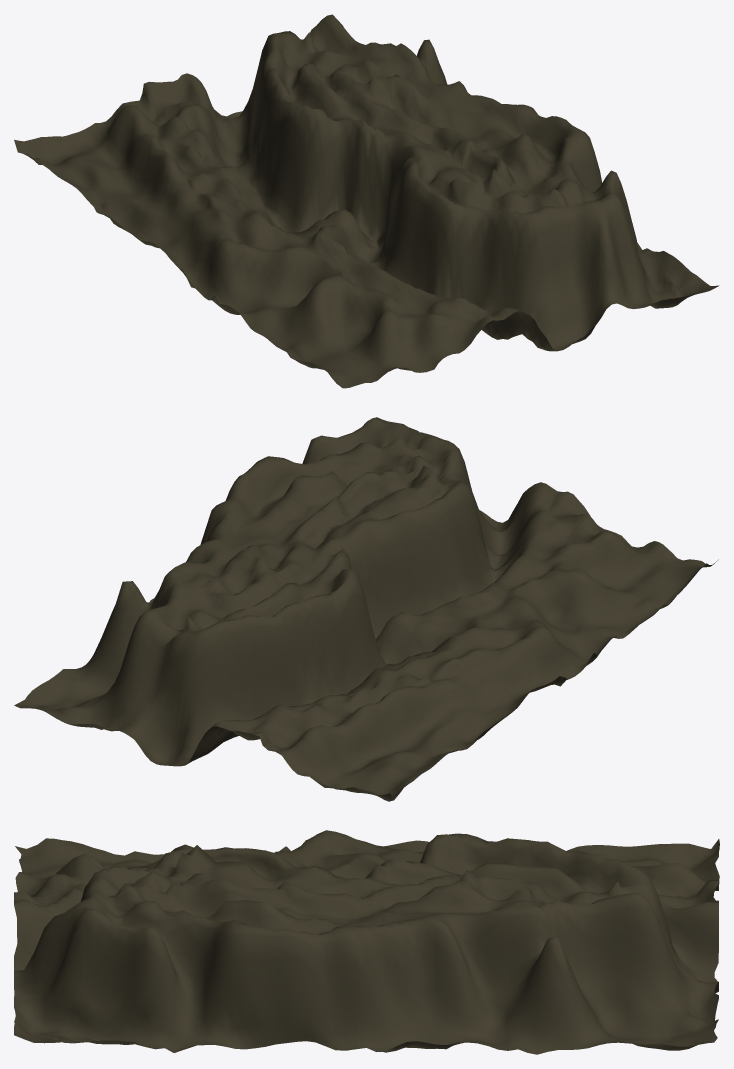
File: Lake_Cavern_Roof.obj
The picture shows the model from 3 angles, top to bottom: view 1: azimuth 30°, elevation 25°; view 2: azimuth 150°, elevation 25°; view 3: azimuth 270°, elevation 25°; orthographic projection. The views are drawn at different scales.
Parts seen in each view (by area): view 1: Roof; view 2: Roof; view 3: Roof.
Boxes of the visible parts, left/top/right/bottom form: Roof: left=14, top=14, right=719, bottom=388; Roof: left=14, top=417, right=718, bottom=801; Roof: left=14, top=830, right=719, bottom=1054.
Bounding box in the file's own units: 5320 × 1675 × 7933.
